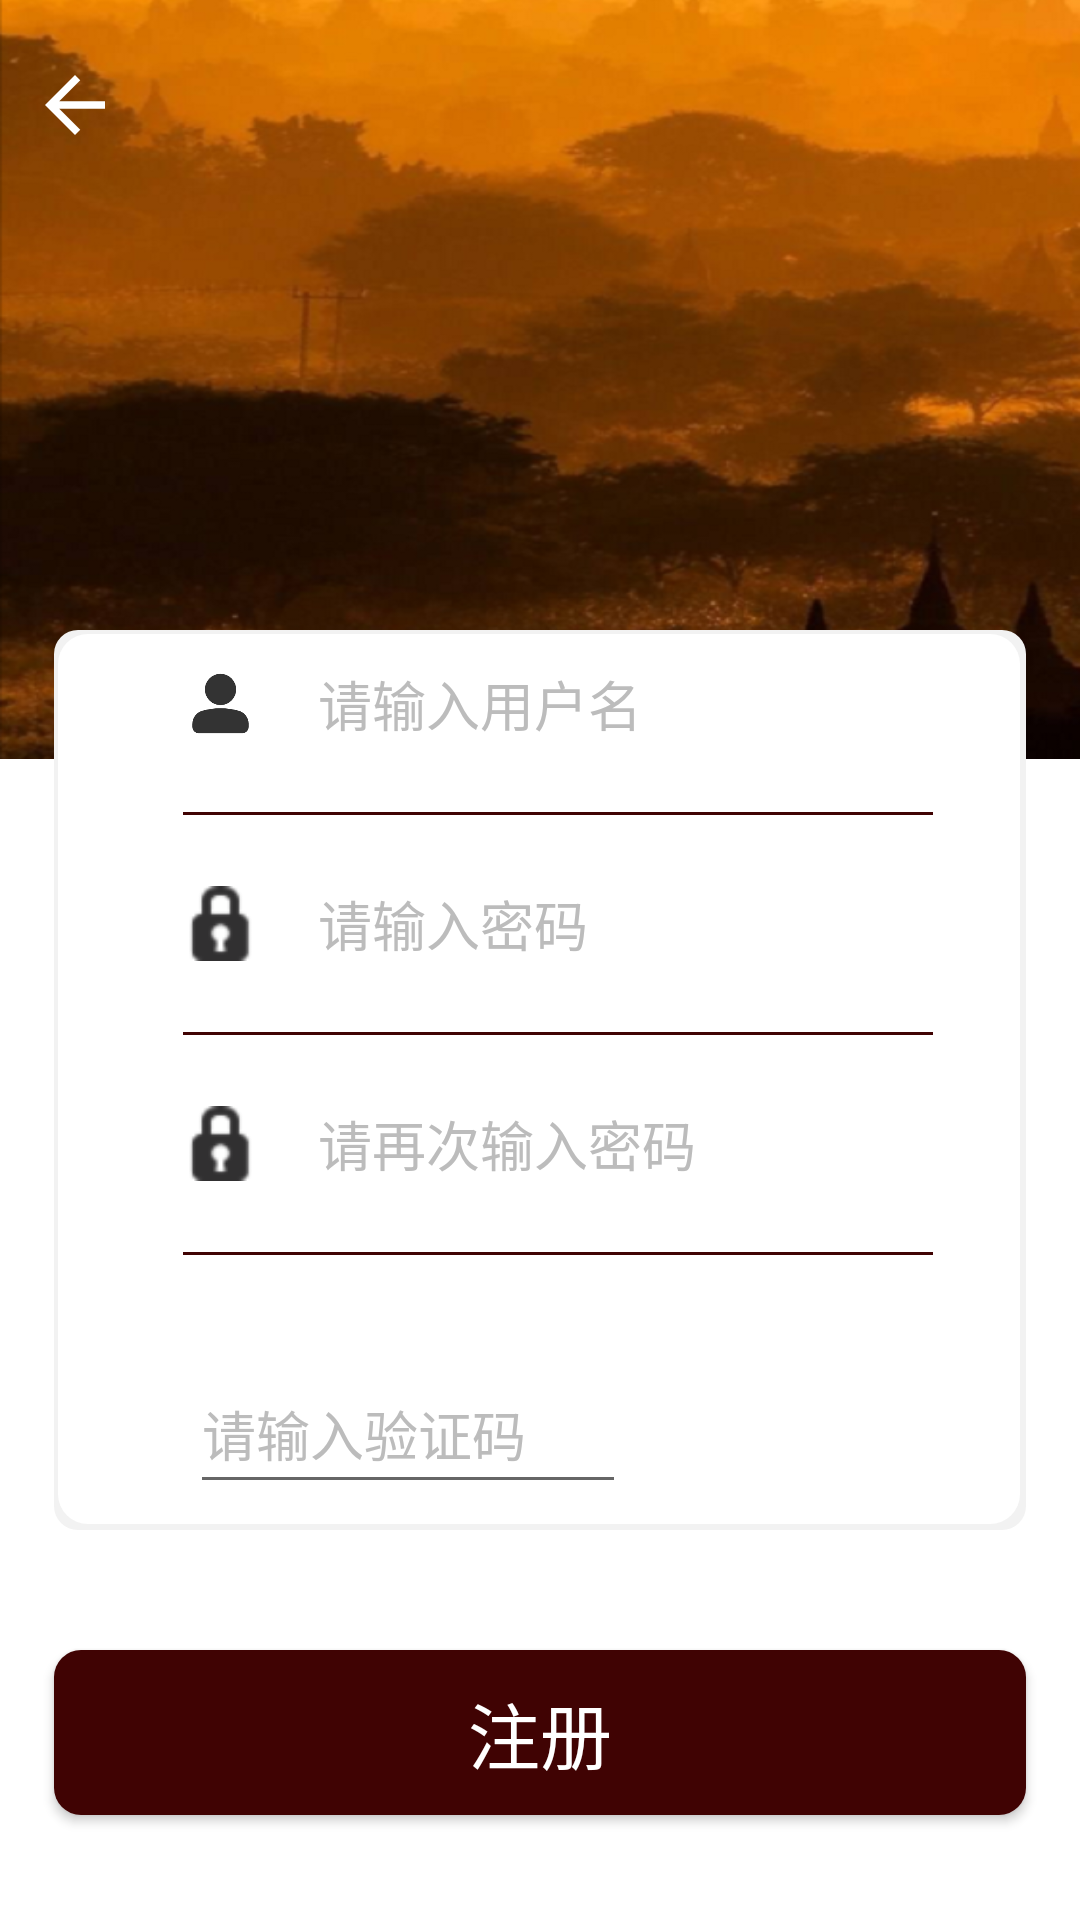

Icons on this 1080 x 1920 Android screen, each with its box as detection(x1, y1, x2, y2):
mine: detection(192, 674, 249, 733)
secure: detection(191, 886, 250, 961), detection(191, 1106, 250, 1181)
